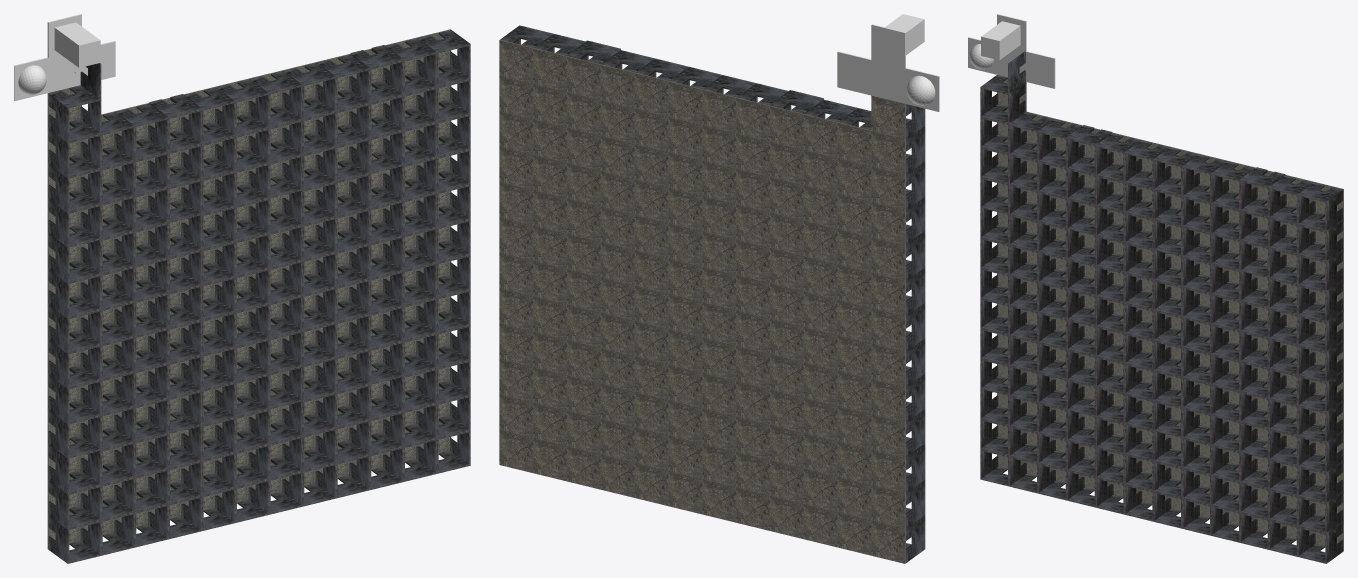
The model's file is mimita angry.glb.
The picture shows the model from 3 angles, left to right: view 1: azimuth 30°, elevation 25°; view 2: azimuth 150°, elevation 25°; view 3: azimuth 330°, elevation 25°; orthographic projection. The views are drawn at different scales.
Parts seen in each view (by area): view 1: Cube.003, Cube, Cube.099, Cube.284, Cube.191, Cube.554, Sphere, Cube.091, Cube.007, Cube.090, Cube.292, Cube.011 (+18 smaller); view 2: Cube.002, Cube.006, Cube.045, Cube.700, Cube.709, Cube.036, Cube.730, Cube.016, Cube.075, Cube.086, Cube.287, Cube.348 (+161 smaller); view 3: Cube.003, Cube.006, Cube.001, Cube.191, Cube.554, Cube.588, Cube.164, Cube.731, Cube.037, Cube.157, Cube.708, Cube.581 (+15 smaller).
Part boxes in pixels (x1,y1,x2,y2): Cube.003: [54, 22, 100, 67]; Cube: [48, 55, 81, 92]; Cube.099: [48, 234, 69, 281]; Cube.284: [48, 445, 69, 491]; Cube.191: [149, 94, 202, 117]; Cube.554: [350, 45, 403, 68]; Sphere: [18, 65, 46, 94]; Cube.091: [48, 305, 69, 351]; Cube.007: [48, 85, 101, 108]; Cube.090: [48, 270, 69, 316]; Cube.292: [48, 516, 69, 562]; Cube.011: [48, 130, 69, 175]; Cube.002: [871, 24, 905, 68]; Cube.006: [837, 51, 871, 95]; Cube.045: [803, 114, 837, 157]; Cube.700: [600, 64, 634, 108]; Cube.709: [634, 72, 668, 116]; Cube.036: [837, 122, 871, 166]; Cube.730: [668, 81, 702, 124]; Cube.016: [871, 202, 905, 245]; Cube.075: [837, 229, 871, 272]; Cube.086: [871, 272, 905, 315]; Cube.287: [871, 449, 905, 492]; Cube.348: [837, 406, 871, 449]; Cube.003: [981, 21, 1020, 60]; Cube.006: [1026, 51, 1055, 88]; Cube.001: [1008, 51, 1025, 93]; Cube.191: [1067, 125, 1112, 145]; Cube.554: [1240, 167, 1285, 187]; Cube.588: [1297, 182, 1343, 202]; Cube.164: [1095, 133, 1140, 153]; Cube.731: [1153, 147, 1198, 167]; Cube.037: [1009, 112, 1054, 132]; Cube.157: [1124, 140, 1169, 160]; Cube.708: [1182, 154, 1227, 174]; Cube.581: [1268, 175, 1313, 195].
Size of the model in its own units: 650 by 750 by 84.31.
2 materials, 2 textured.
